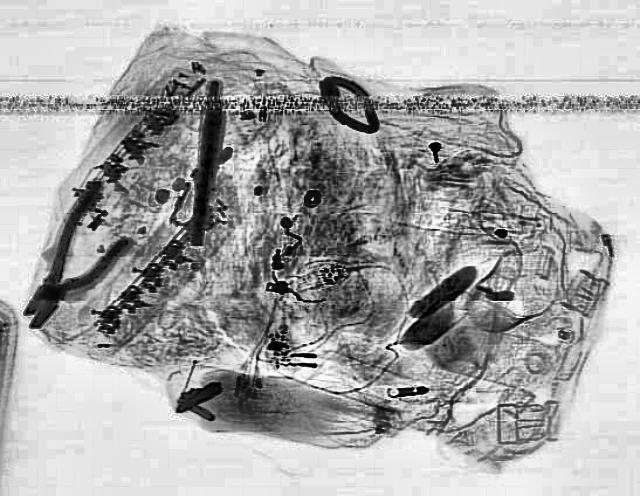Pliers: (0, 193, 140, 329)
